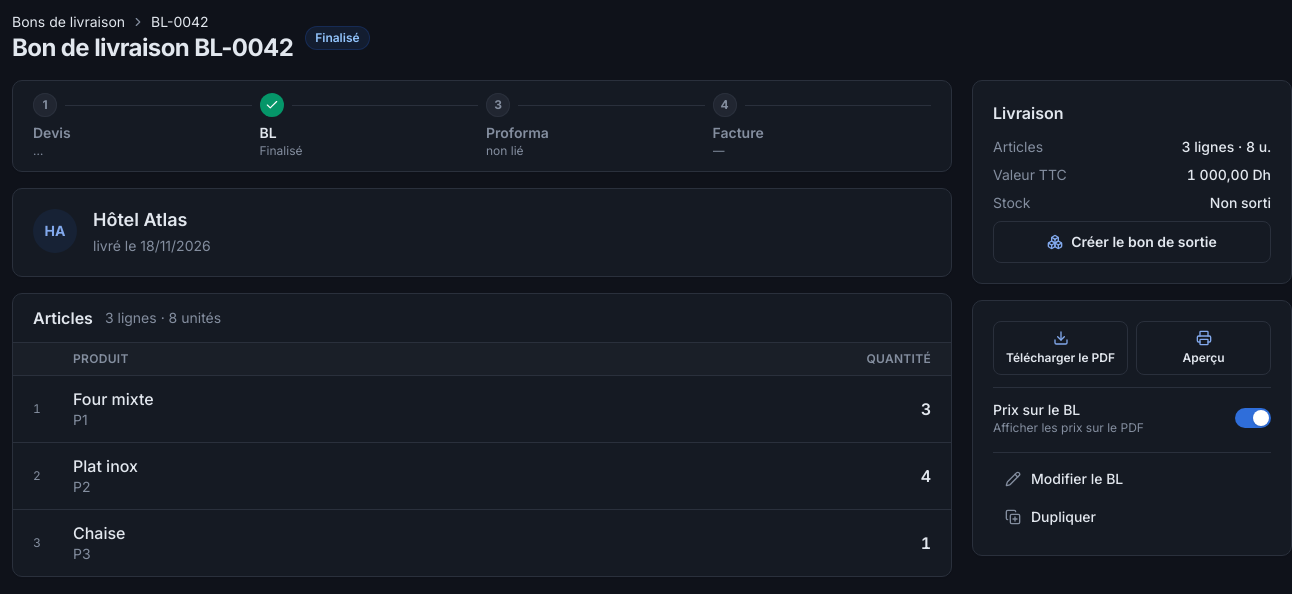
Test: delivery note page › leaves validation to the warehouse for billing staff
This screenshot has width=1292, height=594.
Click the button "Créer le bon de sortie" at point(1132, 242), box [993, 221, 1271, 263]
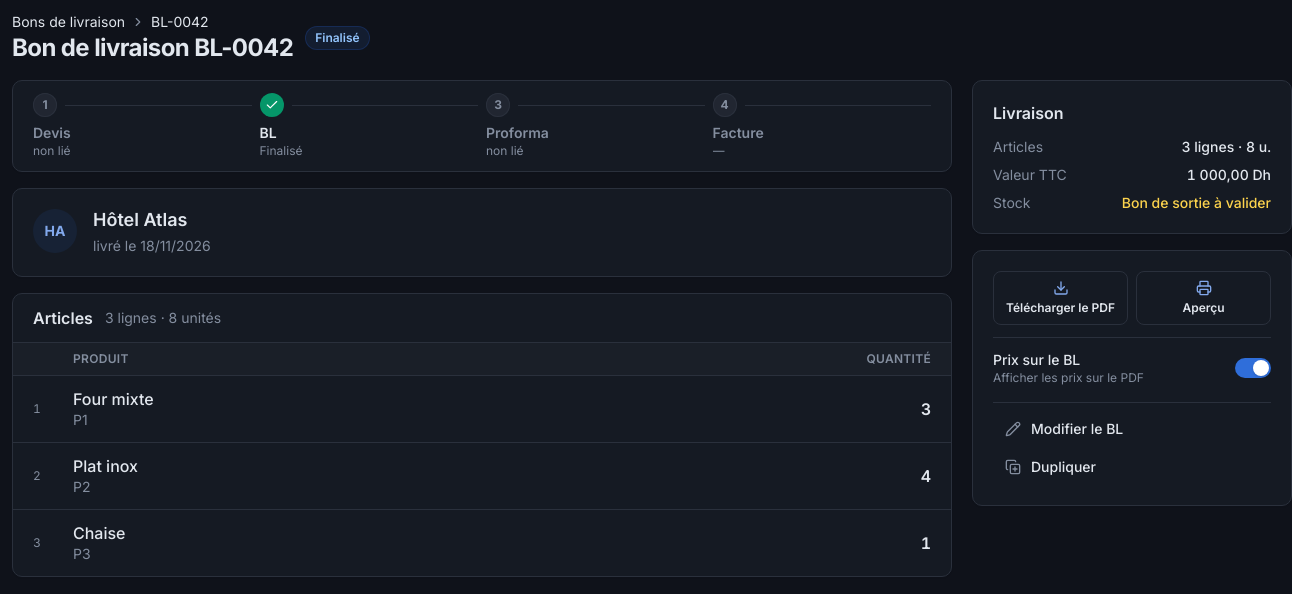
Expected: the link "Bon de sortie à valider" is shown, [1122, 194, 1271, 211]
